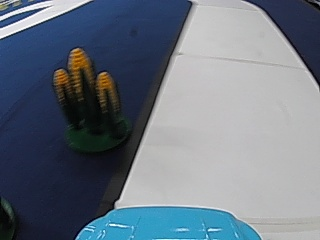corn: (54, 44, 129, 155)
